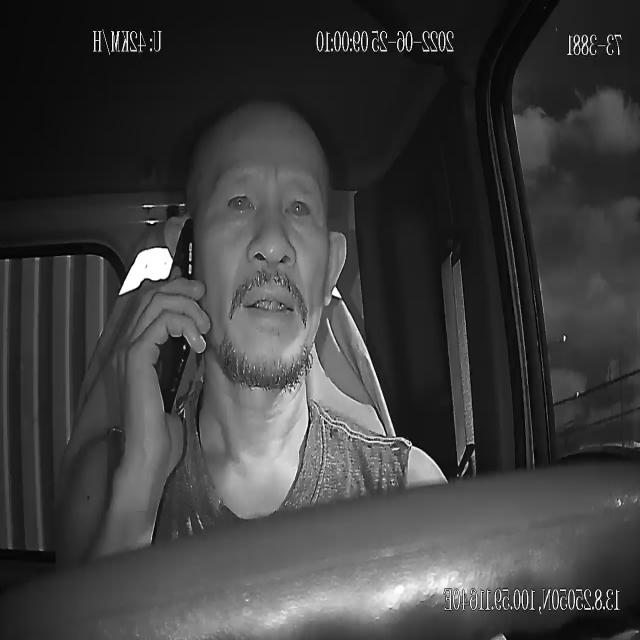phone: (154, 213, 198, 419)
